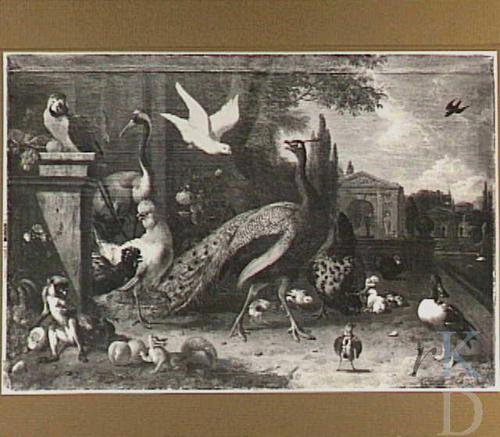bird: (147, 137, 318, 344), (85, 200, 170, 331), (90, 105, 154, 220), (311, 213, 367, 321), (421, 275, 477, 363), (42, 93, 103, 155), (331, 323, 364, 373), (376, 252, 405, 283), (365, 289, 387, 315), (443, 99, 469, 117)
dove: (157, 81, 240, 156)
tree: (245, 56, 387, 143)
